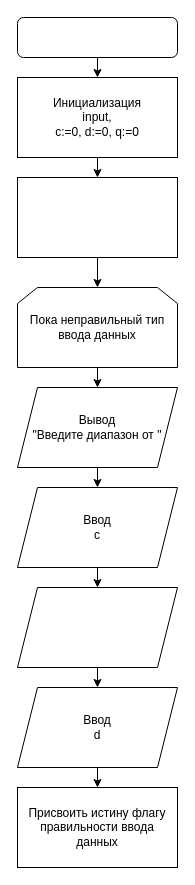
This 195x885 diagram has some shape labels left out. Here are the shapes that lost their labels. From the top down, the centre of each, then its label:
point (97, 37): Начало
point (97, 217): Инициализация inputWasGood:=false
point (97, 627): Вывод "Введите диапазон до "
